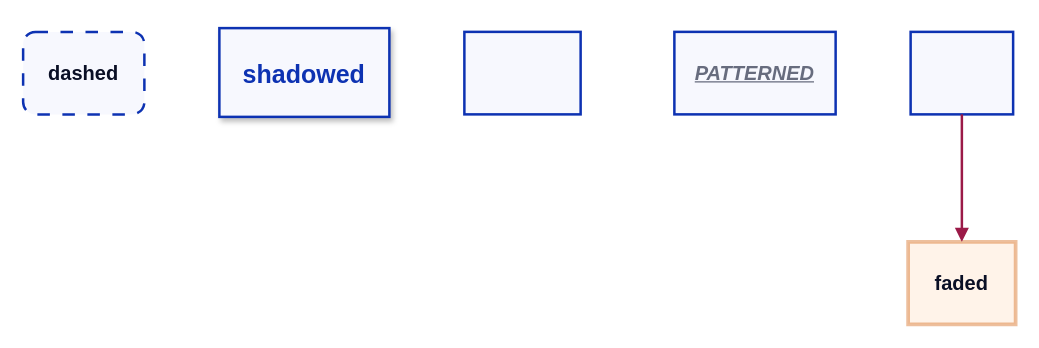
Some shapes in this 1039 by 348 pixel diagram are drawn without their labels. The shapes that lost their labels are listed below. From the top down, each one's centre as x and y in pixels, then its label:
point (521, 72): tripled
point (961, 72): pulse
